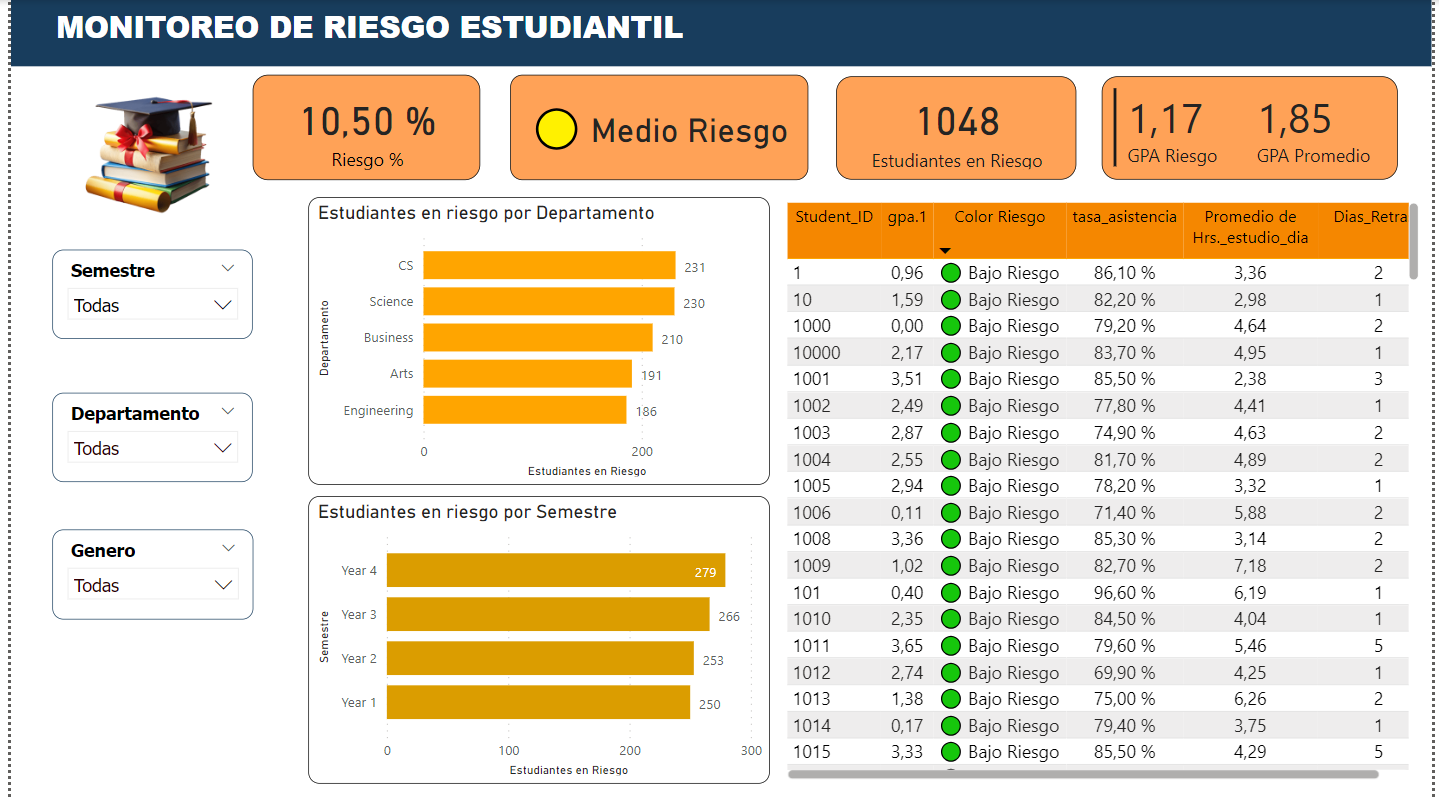

This screenshot's page, from the dashboard's own definition file:
{"tool":"powerbi","page":{"name":"Monitoreo","canvas":[1280,720],"ordinal":2},"visuals":[{"type":"slicer","fields":{"Values":["student_dropout_dataset_v3.Semestre"]},"box":[37.6,225.5,180.7,80.5],"z":0},{"type":"slicer","fields":{"Values":["student_dropout_dataset_v3.Genero"]},"box":[37.6,493.9,180.7,80.5],"z":1000},{"type":"textbox","box":[0,0,1280,60],"z":2000},{"type":"image","box":[38.7,60.2,179.1,150.4],"z":3000},{"type":"card","fields":{"Values":["Medidas.Estudiantes Riesgo"]},"box":[774.8,69.8,230.8,93.1],"z":4000},{"type":"card","fields":{"Values":["Medidas.Riesgo %"]},"box":[218.3,68,214.7,94.8],"z":5000},{"type":"multiRowCard","fields":{"Values":["Medidas.GPA Riesgo","Medidas.GPA Promedio"]},"box":[1041.5,69.8,195.1,93.1],"z":6000},{"type":"tableEx","fields":{"Values":["student_dropout_dataset_v3.Student_ID","student_dropout_dataset_v3.gpa.1","student_dropout_dataset_v3.Nivel_Riesgo","student_dropout_dataset_v3.tasa_asistencia","Avg(student_dropout_dataset_v3.hrs_estudio_dia_imputed)","student_dropout_dataset_v3.Dias_Retraso"]},"box":[731.9,175.4,547.6,544],"z":7000},{"type":"barChart","title":"Estudiantes en riesgo por Departamento","fields":{"Category":["student_dropout_dataset_v3.Departamento"],"Y":["Medidas.Estudiantes Riesgo"]},"box":[286,175.2,414.9,259.5],"z":8000},{"type":"barChart","title":"Estudiantes en riesgo por Semestre","fields":{"Y":["Medidas.Estudiantes Riesgo"],"Category":["student_dropout_dataset_v3.Semestre"]},"box":[286,443,414.9,259.5],"z":9000},{"type":"card","fields":{"Values":["Medidas.Color_Riesgo"]},"box":[461.7,68,270.2,94.8],"z":10000},{"type":"slicer","fields":{"Values":["student_dropout_dataset_v3.Departamento"]},"box":[37.6,354.3,180.7,80.5],"z":11000}]}

Visuals, with their boxes in screenshot pixels (x1, y1, x2, y2), scaled from the page's 1280x720 canvas onto the 1439x799 screenshot:
slicer - student_dropout_dataset_v3.Semestre: Rect(42, 250, 245, 340)
slicer - student_dropout_dataset_v3.Genero: Rect(42, 548, 245, 637)
textbox: Rect(0, 0, 1438, 67)
image: Rect(44, 67, 245, 234)
card - Medidas.Estudiantes Riesgo: Rect(871, 77, 1131, 181)
card - Medidas.Riesgo %: Rect(245, 75, 487, 181)
multiRowCard - Medidas.GPA Riesgo x Medidas.GPA Promedio: Rect(1171, 77, 1390, 181)
tableEx - student_dropout_dataset_v3.Student_ID x student_dropout_dataset_v3.gpa.1: Rect(823, 195, 1438, 798)
"Estudiantes en riesgo por Departamento" barChart: Rect(322, 194, 788, 482)
"Estudiantes en riesgo por Semestre" barChart: Rect(322, 492, 788, 780)
card - Medidas.Color_Riesgo: Rect(519, 75, 823, 181)
slicer - student_dropout_dataset_v3.Departamento: Rect(42, 393, 245, 483)
